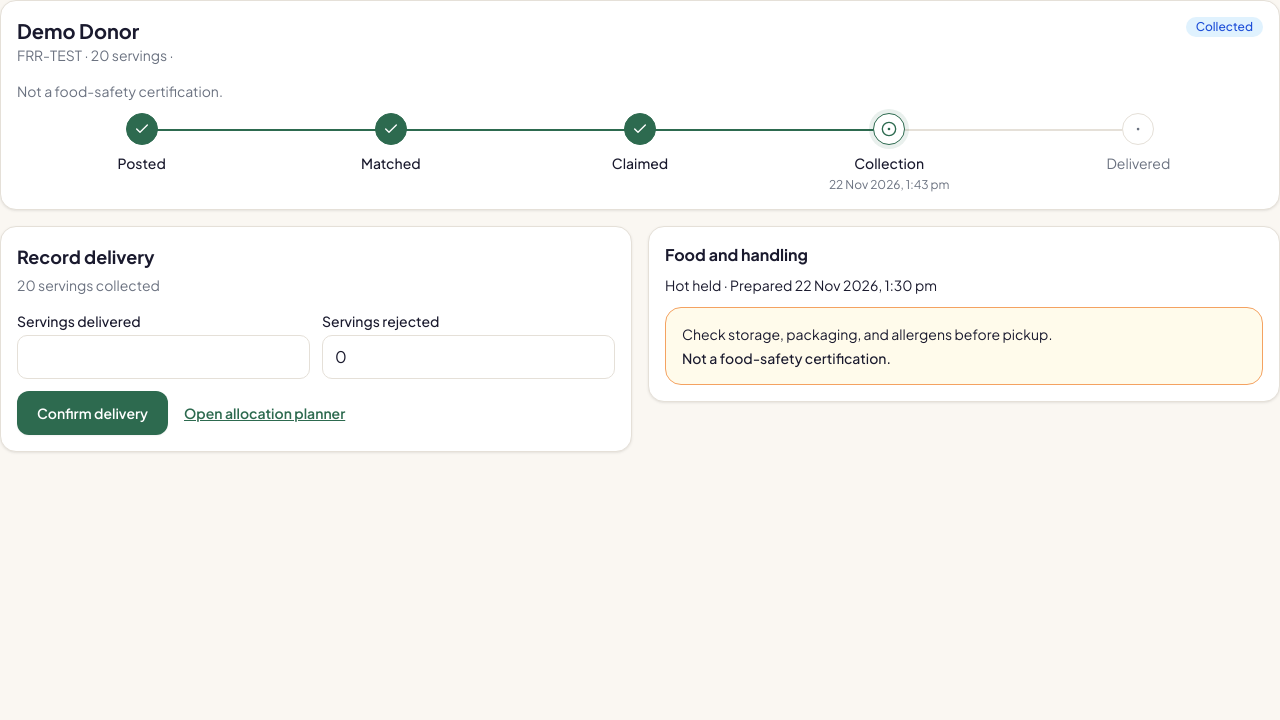
Test: Pickup delivery › updates the timeline from the confirmed response without waiting for a refetch
Type "20" into the number field labelled "Servings delivered" at (164, 357), box [17,335,310,379]
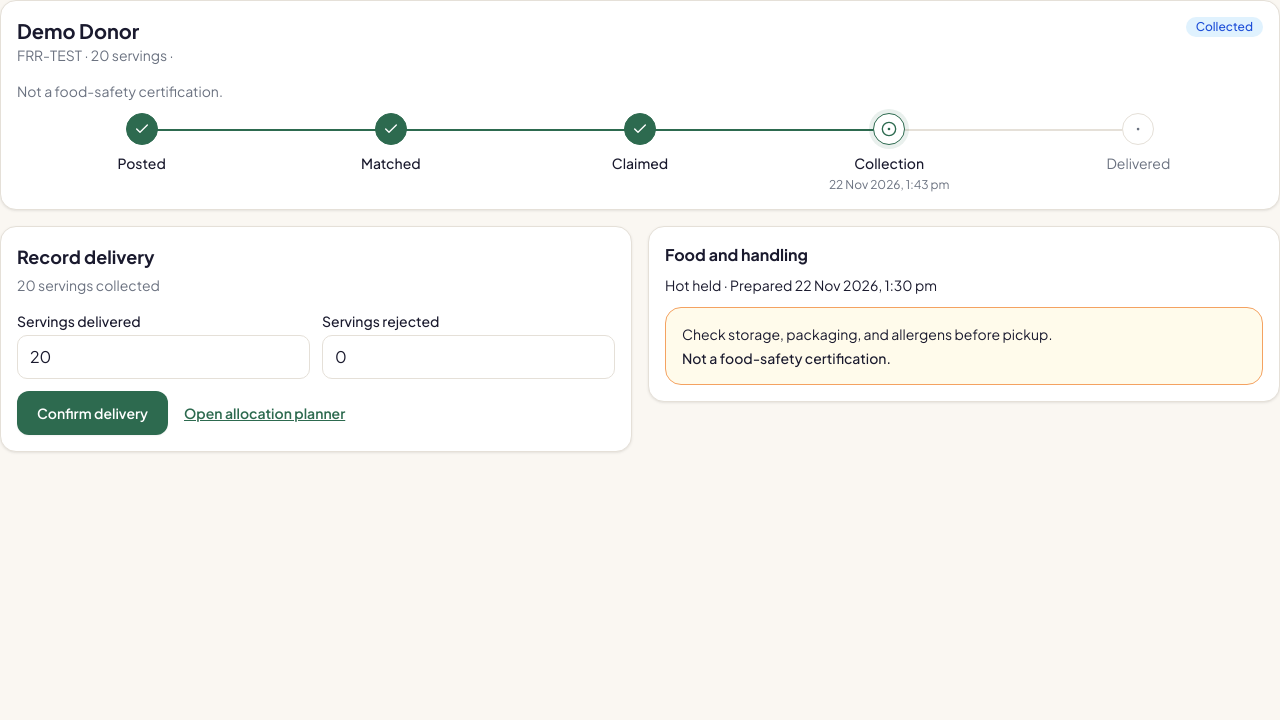
Click the button "Confirm delivery" at (92, 413), box [17,391,168,435]
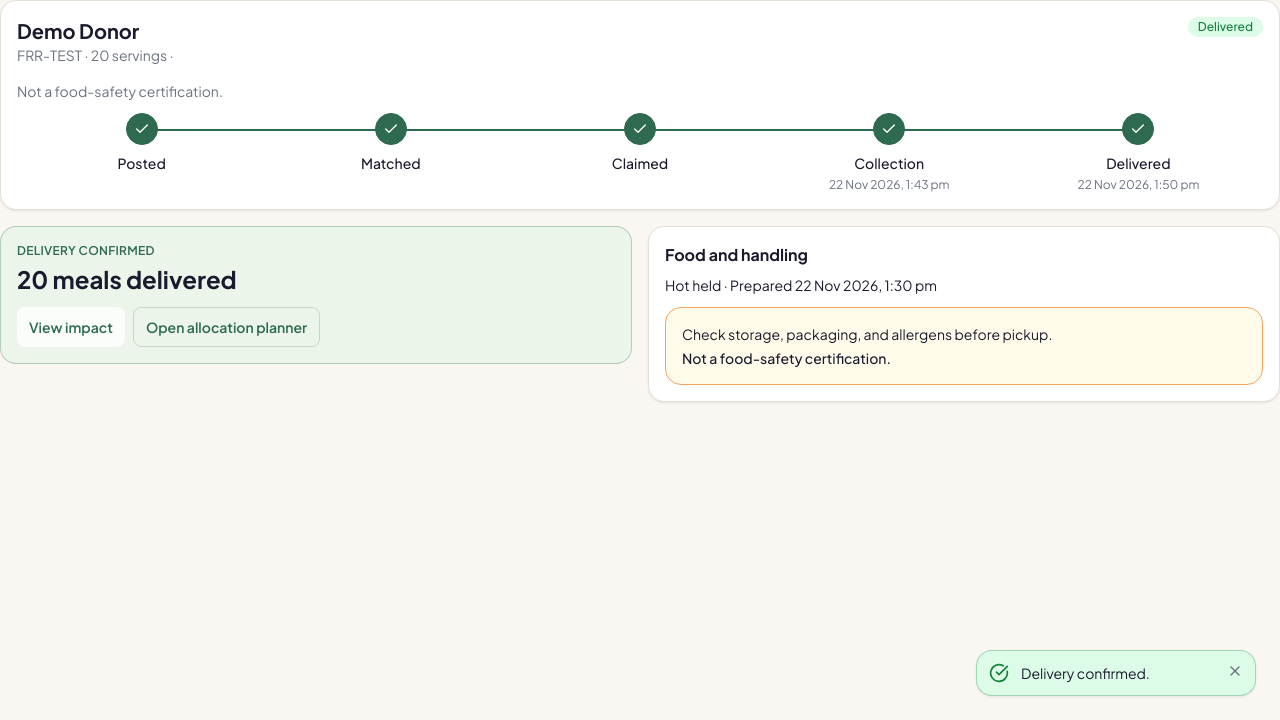
Now the heading "20 meals delivered" is shown, box [17,264,237,294]
Now the message reads "Delivery confirmed.", box [1021,664,1150,682]
